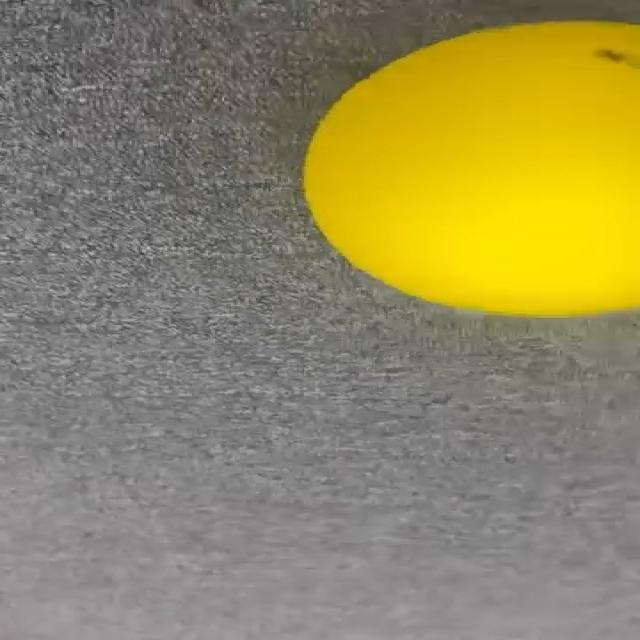Fuels: (293, 18, 640, 323)
